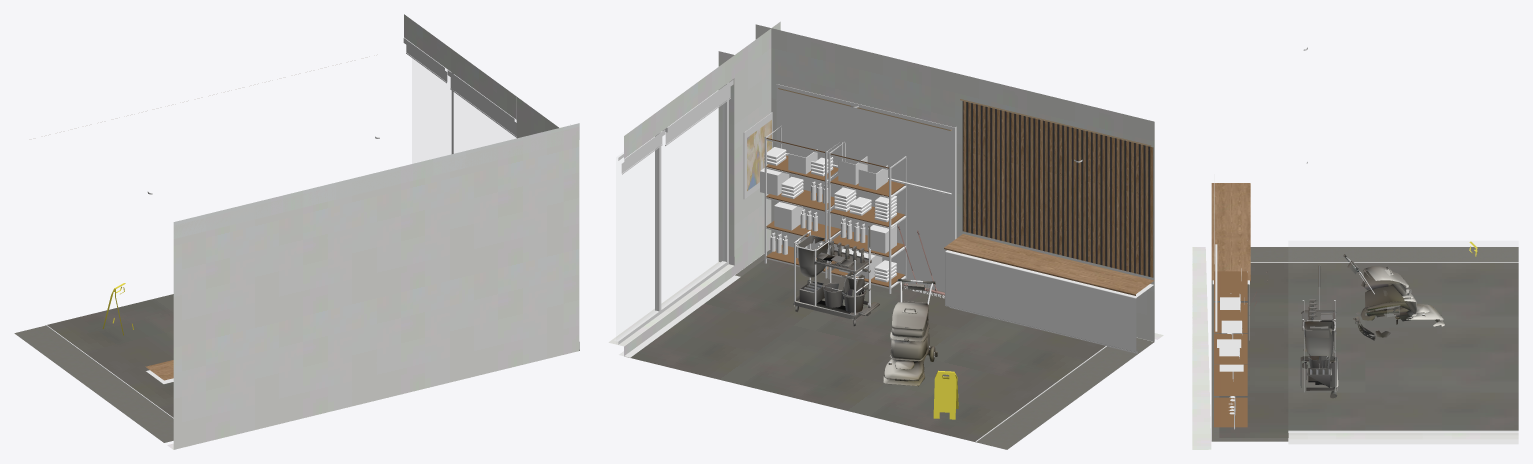
File: z-equipment-lite.light.9893fd3f.glb
3 views of the same model, side by side, from view 1: azimuth 30°, elevation 25°; view 2: azimuth 150°, elevation 25°; view 3: azimuth 270°, elevation 25° (orthographic). The views are drawn at different scales.
Visible parts, largest first — view 1: equipment_plaster, equipment_bay_floor, equipment_carpet, equipment_satin; view 2: equipment_satin, equipment_bay_floor, equipment_plaster, equipment_proxy_slat, equipment_fx, equipment_metal_lit, equipment_carpet, equipment_oak, equipment_steel_frame_shelves_01, equipment_art, equipment_WetFloorSign_01, equipment_emit; view 3: equipment_bay_floor, equipment_fx, equipment_carpet, equipment_plaster, equipment_steel_frame_shelves_01, equipment_satin, equipment_oak, equipment_metal_lit.
Part boxes in pixels (x1,y1,x2,y2): equipment_plaster: [167, 14, 579, 449]; equipment_bay_floor: [47, 294, 173, 417]; equipment_carpet: [14, 325, 173, 442]; equipment_satin: [146, 38, 516, 383]; equipment_satin: [614, 79, 1153, 357]; equipment_bay_floor: [630, 257, 1105, 441]; equipment_plaster: [608, 21, 1163, 355]; equipment_proxy_slat: [962, 101, 1153, 277]; equipment_fx: [793, 226, 937, 386]; equipment_metal_lit: [743, 112, 1106, 441]; equipment_carpet: [624, 250, 1154, 449]; equipment_oak: [944, 234, 1154, 295]; equipment_steel_frame_shelves_01: [766, 138, 904, 287]; equipment_art: [747, 120, 771, 190]; equipment_WetFloorSign_01: [933, 370, 958, 419]; equipment_emit: [778, 88, 1151, 146]; equipment_bay_floor: [1219, 263, 1518, 437]; equipment_fx: [1300, 254, 1444, 398]; equipment_carpet: [1211, 247, 1518, 441]; equipment_plaster: [1192, 247, 1518, 449]; equipment_steel_frame_shelves_01: [1214, 271, 1247, 427]; equipment_satin: [1212, 47, 1518, 444]; equipment_oak: [1211, 183, 1250, 281]; equipment_metal_lit: [1215, 244, 1518, 391].
Bounding box in the file's own units: 6.25 × 3.35 × 4.25.
14 materials, 7 textured.
